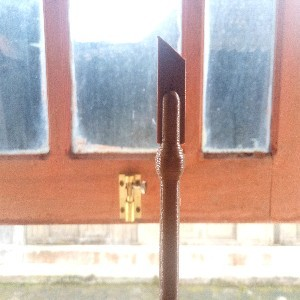cutter: (154, 34, 187, 300)
